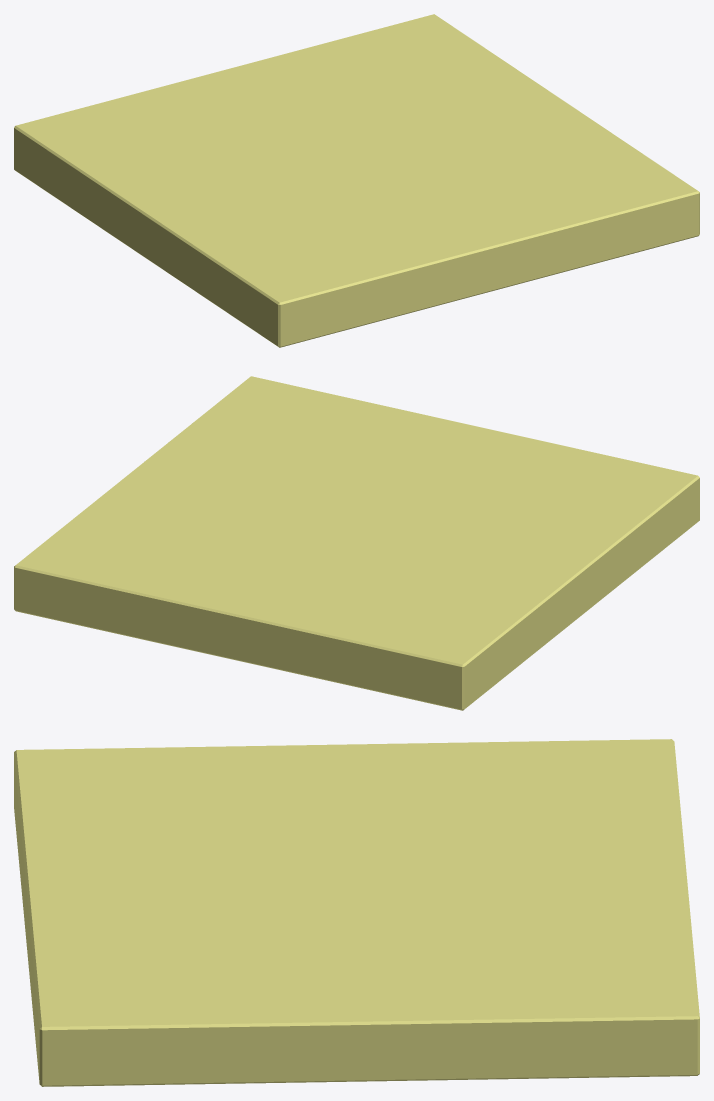
Rendered from Fridgerer_Pizza_Box.glb.
3 views of the same model, one above another, from view 1: azimuth 30°, elevation 25°; view 2: azimuth 150°, elevation 25°; view 3: azimuth 270°, elevation 25° (orthographic). The views are drawn at different scales.
Visible parts, largest first — view 1: Pizza; view 2: Pizza; view 3: Pizza.
Part boxes in pixels (x1,y1,x2,y2): Pizza: (14, 14, 699, 347); Pizza: (14, 376, 699, 710); Pizza: (14, 739, 699, 1086).
Bounding box in the file's own units: 0.4152 × 0.04 × 0.4152.
